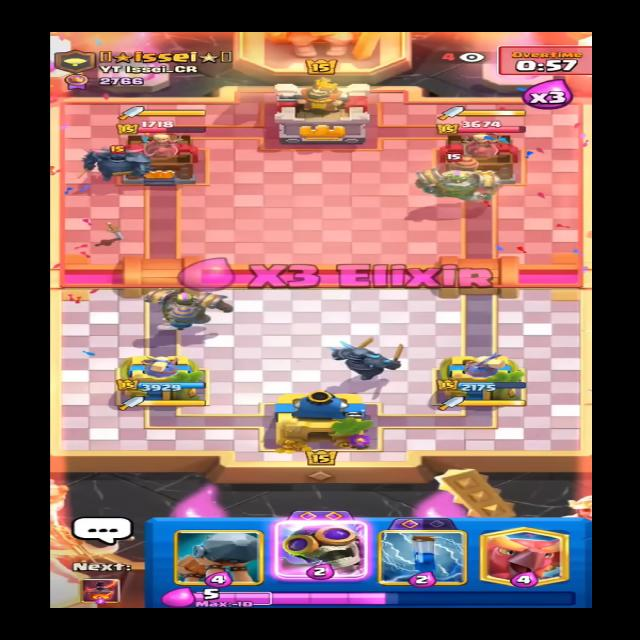goblin-machine: (409, 149, 512, 200)
pekka: (78, 140, 154, 180)
